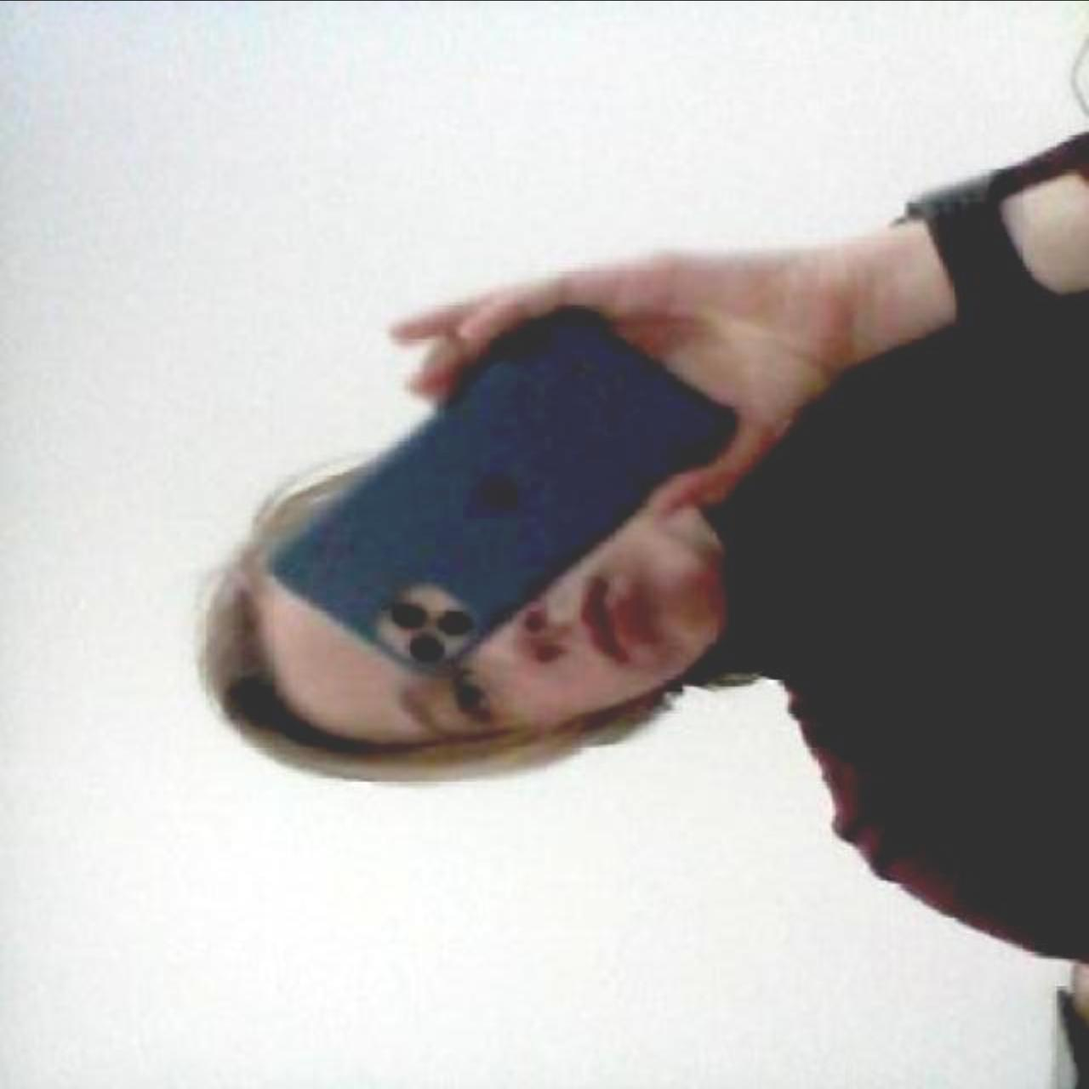phone: (263, 286, 797, 670)
